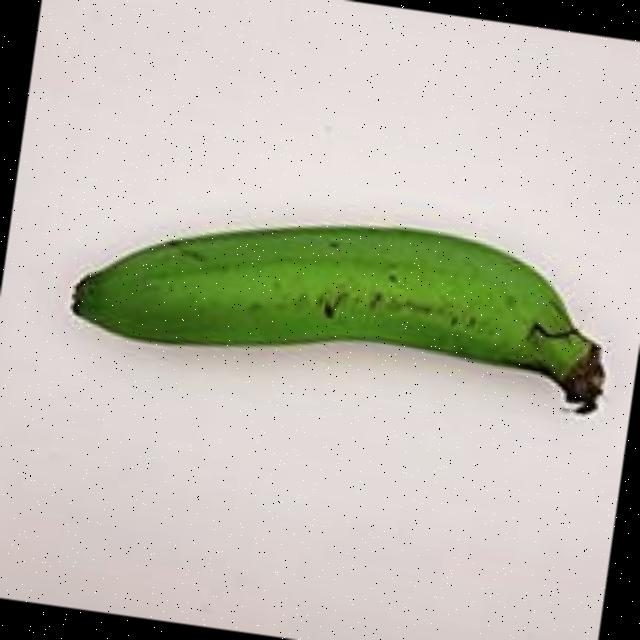Raw: (34, 141, 640, 476)
